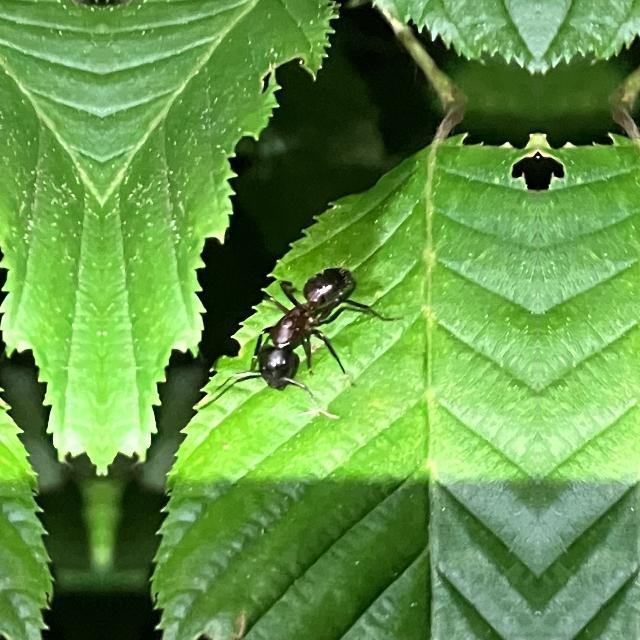Camponotus: (226, 232, 370, 414)
